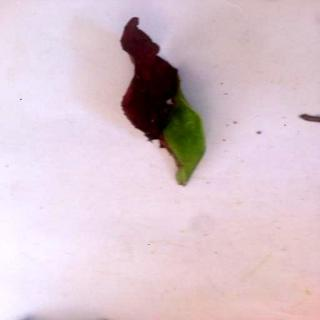Brown Blight: (121, 17, 208, 187)
